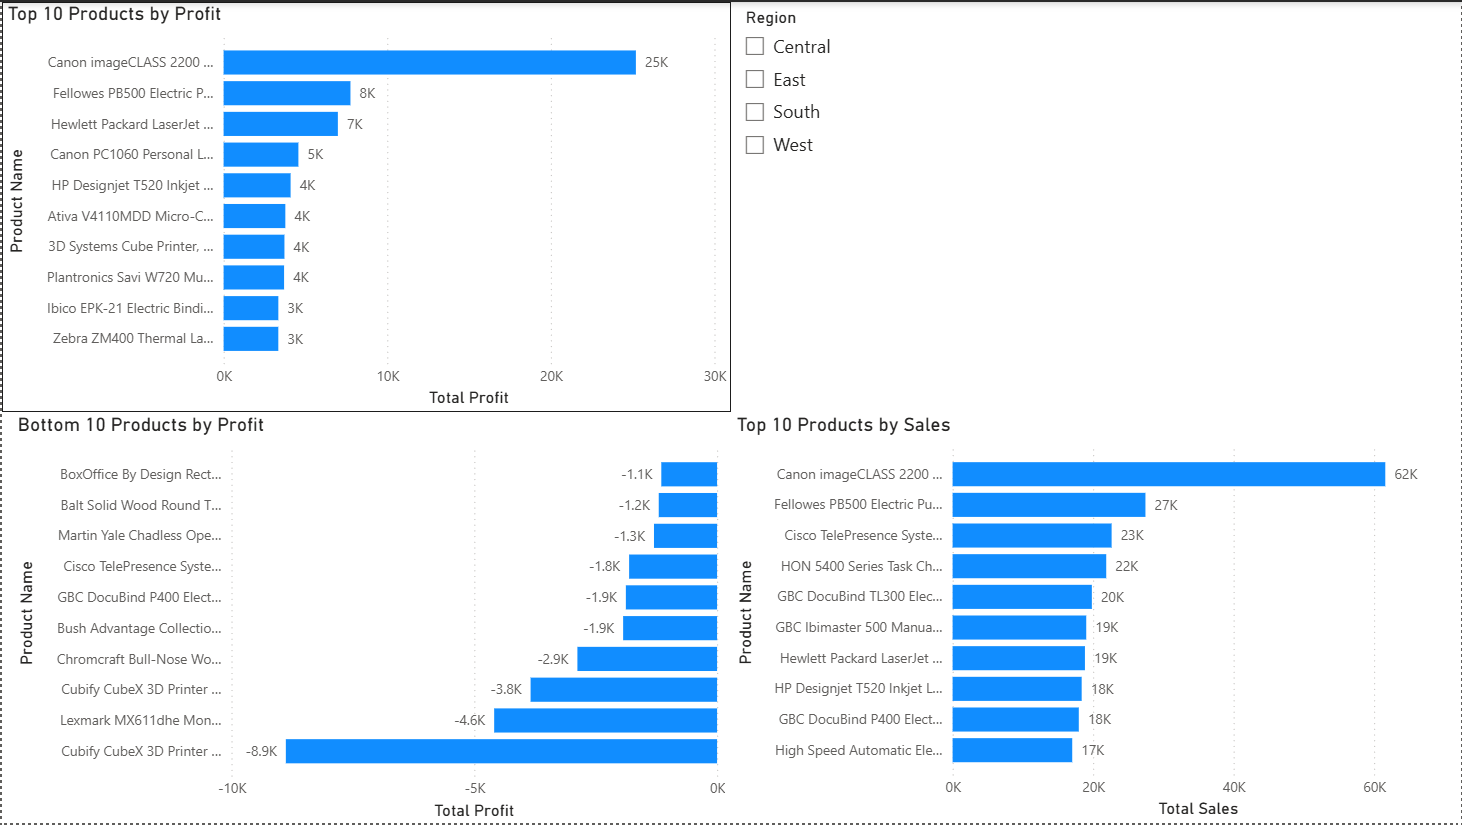

Layout of this report page (visuals, bound fields, positions):
{"tool":"powerbi","page":{"name":"Product Analysis","canvas":[1280,720],"ordinal":1},"visuals":[{"type":"clusteredBarChart","title":"Top 10 Products by Profit","fields":{"Y":["Sum(Sample - Superstore.Profit)"],"Category":["Sample - Superstore.Product Name"]},"box":[0,0,640,360],"z":0},{"type":"barChart","title":"Top 10 Products by Sales","fields":{"Category":["Sample - Superstore.Product Name"],"Y":["Sum(Sample - Superstore.Sales)"]},"box":[639.3,361.1,640.8,359.6],"z":1},{"type":"barChart","title":"Bottom 10 Products by Profit","fields":{"Category":["Sample - Superstore.Product Name"],"Y":["Sum(Sample - Superstore.Profit)"]},"box":[9.6,360.6,630.4,360.6],"z":2},{"type":"slicer","fields":{"Values":["Sample - Superstore.Region"]},"box":[639.3,0,640.8,361.1],"z":3}]}

Visuals, with their boxes in screenshot pixels (x1, y1, x2, y2), scaled from the page's 1280x720 canvas onto the 1462x827 screenshot:
"Top 10 Products by Profit" clusteredBarChart: BBox(0, 0, 731, 413)
"Top 10 Products by Sales" barChart: BBox(730, 415, 1461, 826)
"Bottom 10 Products by Profit" barChart: BBox(11, 414, 731, 826)
slicer - Sample - Superstore.Region: BBox(730, 0, 1461, 415)
